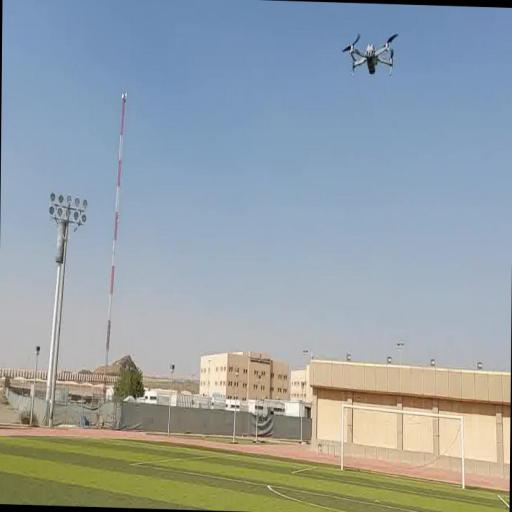drone: (343, 30, 400, 78)
